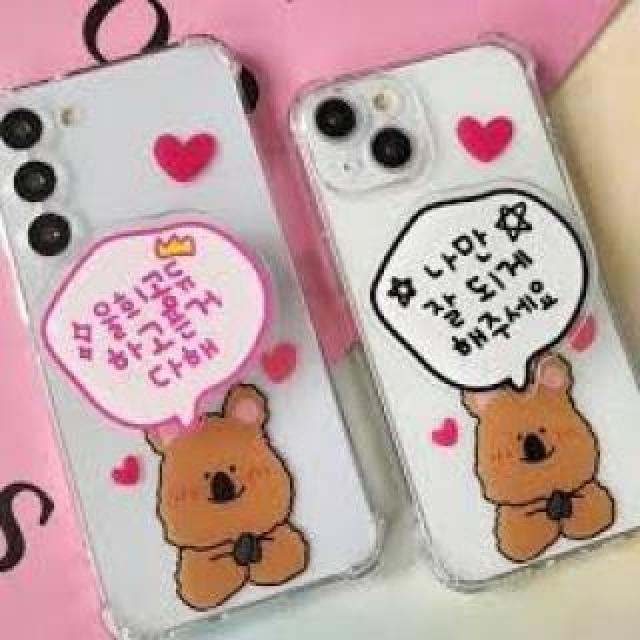smart phone: (0, 34, 352, 610), (308, 23, 580, 640)
